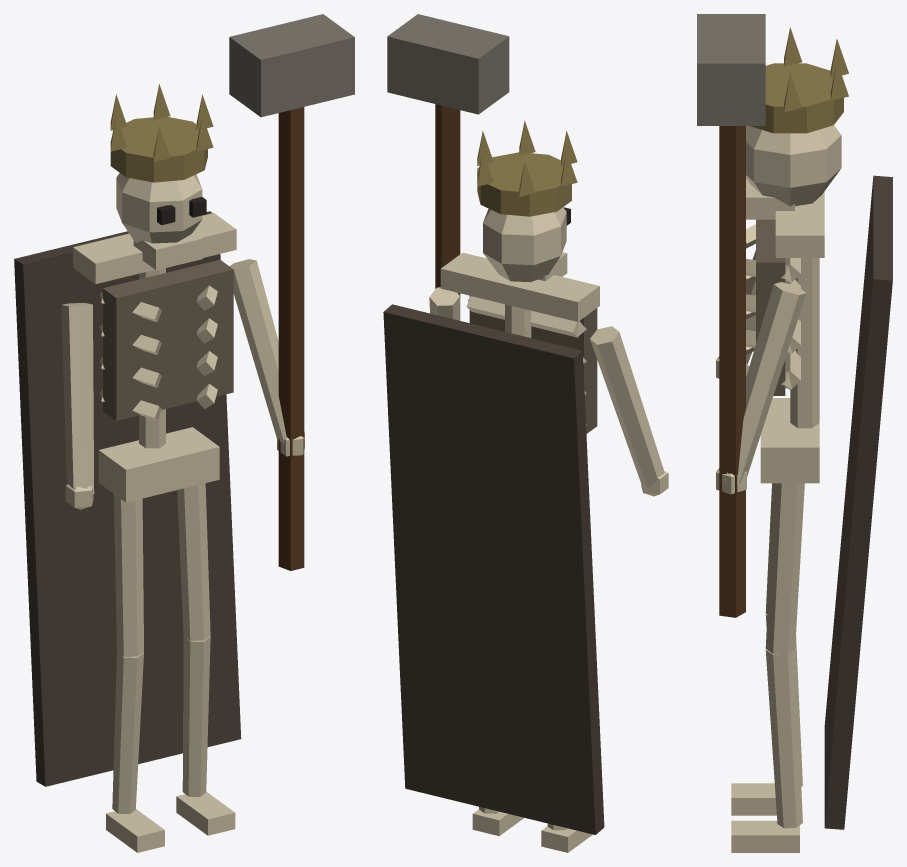
Rendered from huenenkoenig.glb.
3 views of the same model, side by side, from view 1: azimuth 30°, elevation 25°; view 2: azimuth 150°, elevation 25°; view 3: azimuth 270°, elevation 25° (orthographic). The views are drawn at different scales.
Size of the model in its own units: 0.9274 by 2.57 by 0.5393.
Materials: 1 (1 with a texture image).
